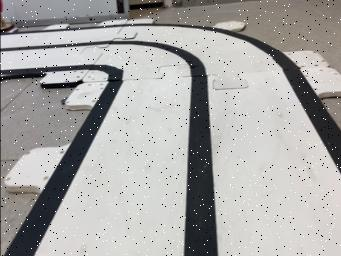street: (0, 23, 341, 256), (0, 23, 341, 256), (0, 23, 341, 256)
